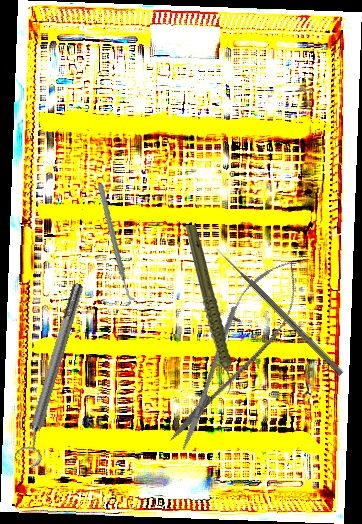Chopper: (80, 183, 154, 303)
Fixation Ring: (11, 279, 94, 470)
Handpiece: (185, 225, 233, 394)
Micro Scissor: (152, 246, 317, 461)
Pusher: (213, 245, 345, 377)
